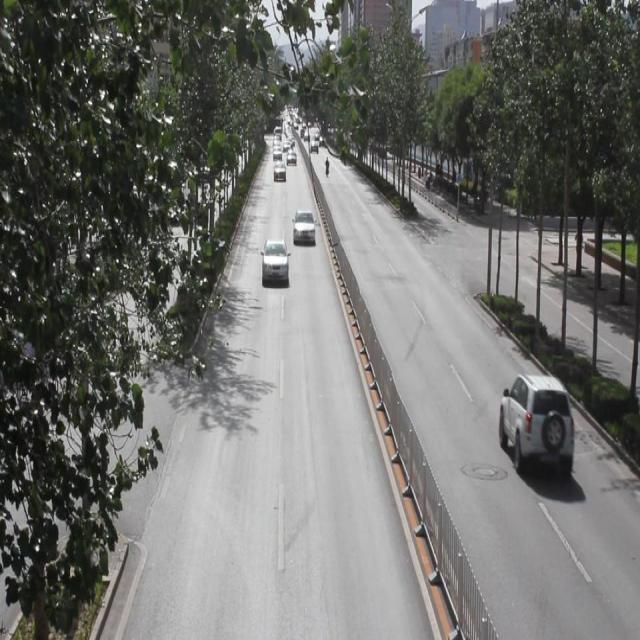car: (499, 371, 572, 475), (262, 237, 288, 283), (292, 207, 315, 243), (273, 158, 285, 181)
